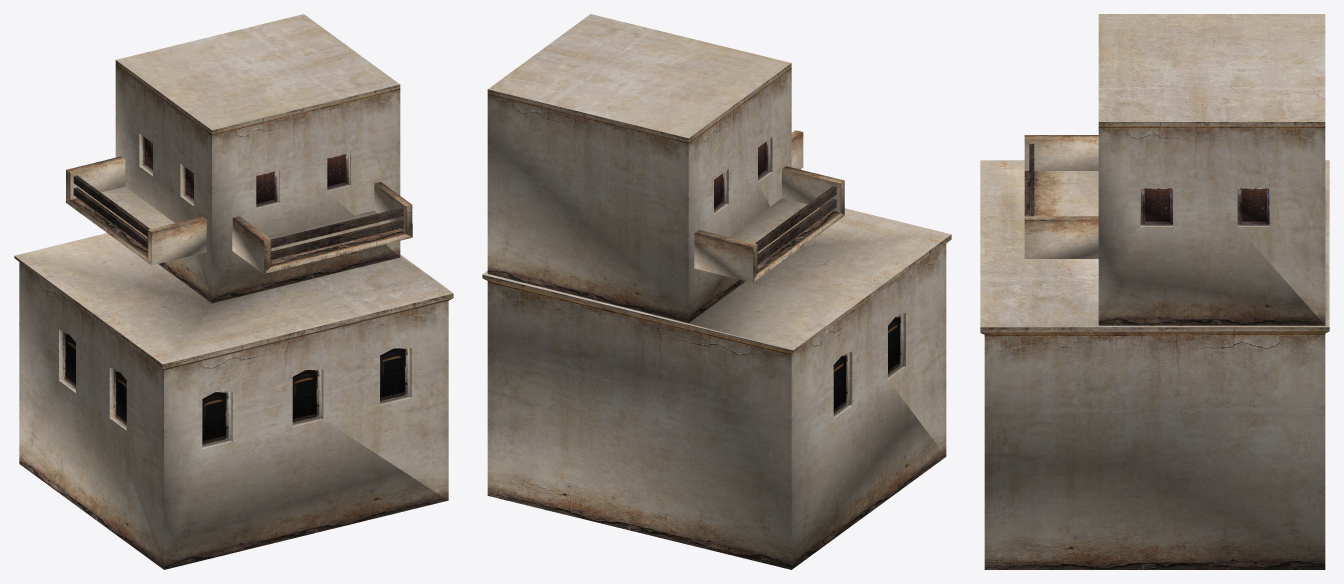
Rendered from BuildingF_Seperated.fbx.
The picture shows the model from 3 angles, left to right: view 1: azimuth 30°, elevation 25°; view 2: azimuth 150°, elevation 25°; view 3: azimuth 270°, elevation 25°; orthographic projection. The views are drawn at different scales.
Visible parts, largest first — view 1: BuildingF_Wall1, BuildingF_Wall2, BuildingF_Roof1, BuildingF_Roof2, BuildingF_Balcony1, BuildingF_Balcony2, BuildingF_Balcony2Floor, BuildingF_Balcony1Floor, BuildingF_Window5, BuildingF_Window4, BuildingF_Window3, BuildingF_Window2 (+3 smaller); view 2: BuildingF_Wall1, BuildingF_Wall2, BuildingF_Roof2, BuildingF_Roof1, BuildingF_Balcony1, BuildingF_Balcony1Floor, BuildingF_Window1, BuildingF_Window2; view 3: BuildingF_Wall1, BuildingF_Wall2, BuildingF_Roof2, BuildingF_Roof1, BuildingF_Balcony2, BuildingF_Balcony2Floor, BuildingF_Window11, BuildingF_Window10.
Boxes of the visible parts, <box> form: BuildingF_Wall1: <box>19,262,448,569</box>; BuildingF_Wall2: <box>115,60,400,303</box>; BuildingF_Roof1: <box>14,233,453,370</box>; BuildingF_Roof2: <box>116,14,399,130</box>; BuildingF_Balcony1: <box>66,156,206,265</box>; BuildingF_Balcony2: <box>232,182,412,273</box>; BuildingF_Balcony2Floor: <box>264,210,411,273</box>; BuildingF_Balcony1Floor: <box>66,186,174,264</box>; BuildingF_Window5: <box>380,347,411,405</box>; BuildingF_Window4: <box>292,369,323,426</box>; BuildingF_Window3: <box>202,391,232,448</box>; BuildingF_Window2: <box>109,368,126,430</box>; BuildingF_Wall1: <box>487,244,946,569</box>; BuildingF_Wall2: <box>487,63,791,322</box>; BuildingF_Roof2: <box>488,14,791,138</box>; BuildingF_Roof1: <box>482,208,951,353</box>; BuildingF_Balcony1: <box>694,166,844,282</box>; BuildingF_Balcony1Floor: <box>729,198,844,282</box>; BuildingF_Window1: <box>833,352,852,418</box>; BuildingF_Window2: <box>888,313,905,379</box>; BuildingF_Wall1: <box>984,333,1325,569</box>; BuildingF_Wall2: <box>1098,122,1325,325</box>; BuildingF_Roof2: <box>1098,14,1325,121</box>; BuildingF_Roof1: <box>980,160,1329,334</box>; BuildingF_Balcony2: <box>1024,135,1098,258</box>; BuildingF_Balcony2Floor: <box>1024,171,1098,216</box>; BuildingF_Window11: <box>1237,188,1269,226</box>; BuildingF_Window10: <box>1140,188,1172,226</box>.
Size of the model in its own units: 1347 by 1683 by 1190.
